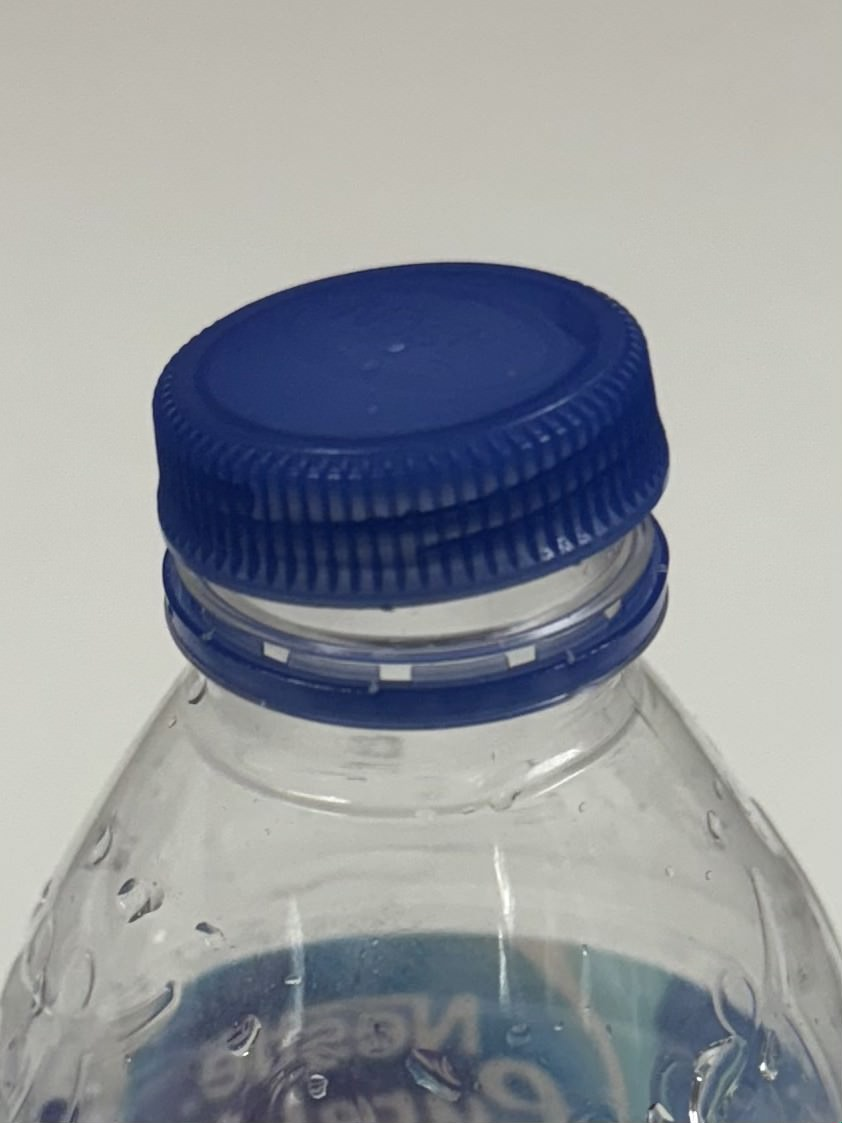half_cap: (140, 249, 684, 724)
